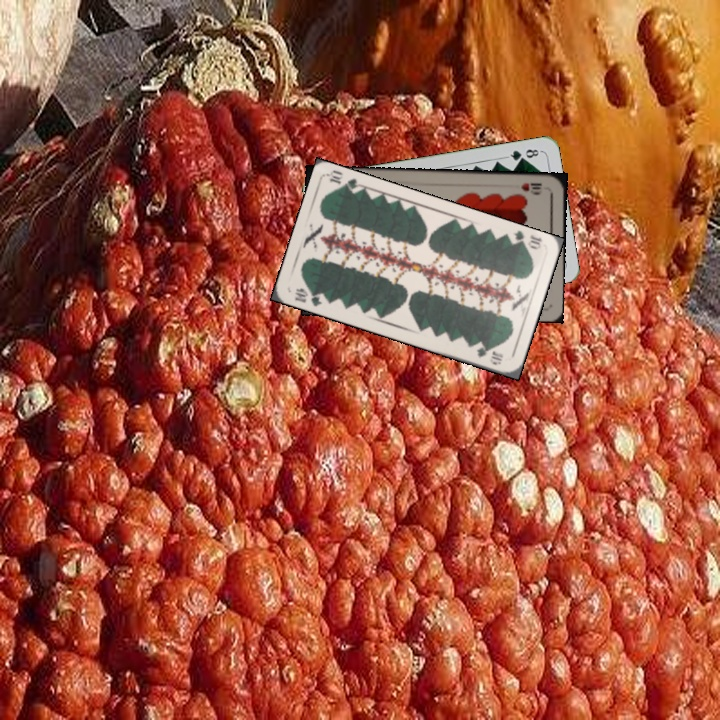G10: (505, 227, 545, 252), (290, 284, 325, 309)
G8: (503, 145, 543, 164)
H10: (517, 179, 545, 193)
